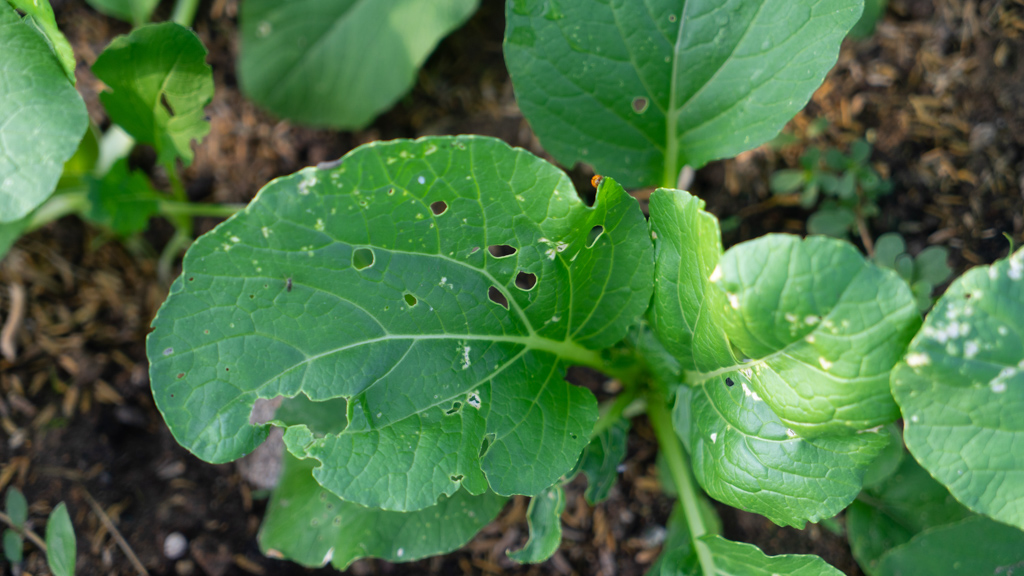Canker: (902, 283, 996, 378)
